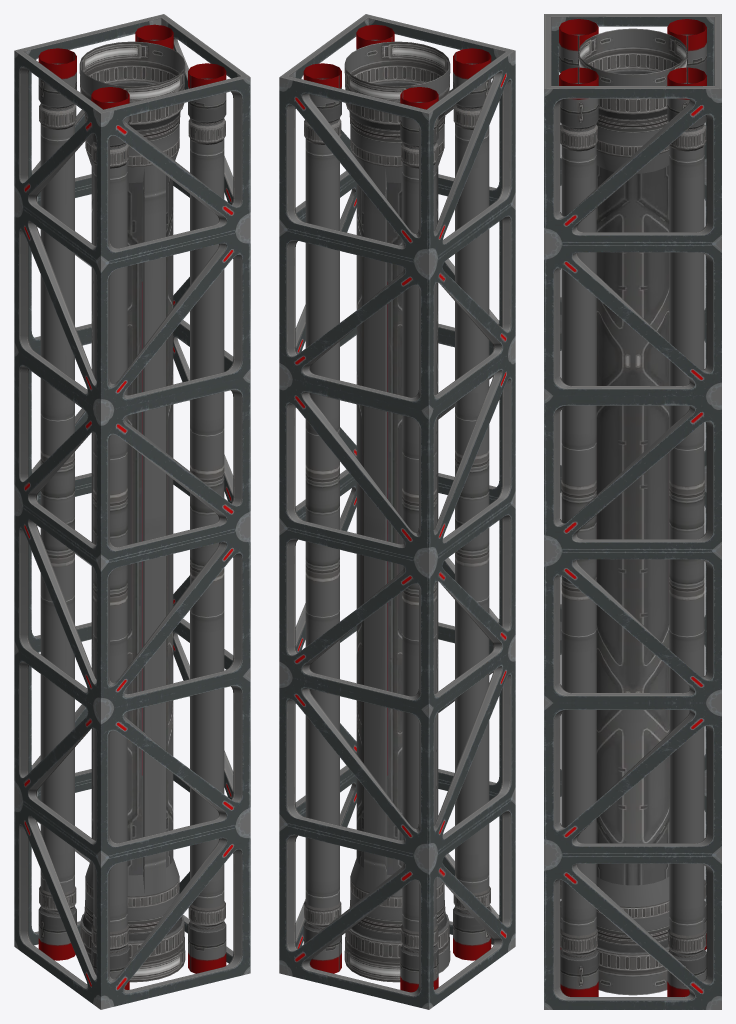
File: column_pipes.glb
3 renders of one model, left to right at view 1: azimuth 30°, elevation 25°; view 2: azimuth 150°, elevation 25°; view 3: azimuth 270°, elevation 25°, orthographic. The views are drawn at different scales.
Parts seen in each view (by area): view 1: Column_Pipes; view 2: Column_Pipes; view 3: Column_Pipes.
Boxes of the visible parts, x1,y1,x2,y2 form: Column_Pipes: (14,14,250,1009); Column_Pipes: (279,14,515,1009); Column_Pipes: (544,14,721,1009).
Size of the model in its own units: 0.8746 by 5 by 0.8746.
Materials: 3 (3 with a texture image).
